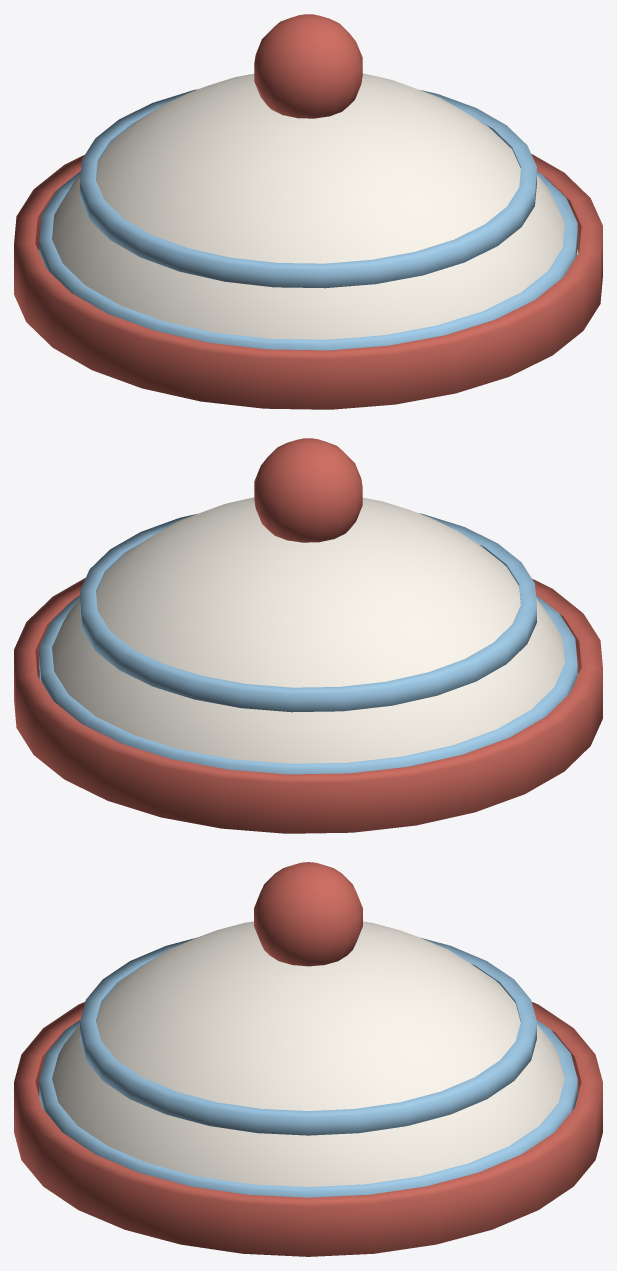
File: colorful_striped_knit_cap.glb
3 renders of one model, top to bottom at view 1: azimuth 30°, elevation 25°; view 2: azimuth 150°, elevation 25°; view 3: azimuth 270°, elevation 25°, orthographic.
Parts seen in each view (by area): view 1: colorful_striped_knit_cap_Head; view 2: colorful_striped_knit_cap_Head; view 3: colorful_striped_knit_cap_Head.
Boxes of the visible parts, x1,y1,x2,y2 form: colorful_striped_knit_cap_Head: (14,14,602,409); colorful_striped_knit_cap_Head: (14,438,602,833); colorful_striped_knit_cap_Head: (14,862,602,1256).
Size of the model in its own units: 0.744 by 0.37 by 0.744.
